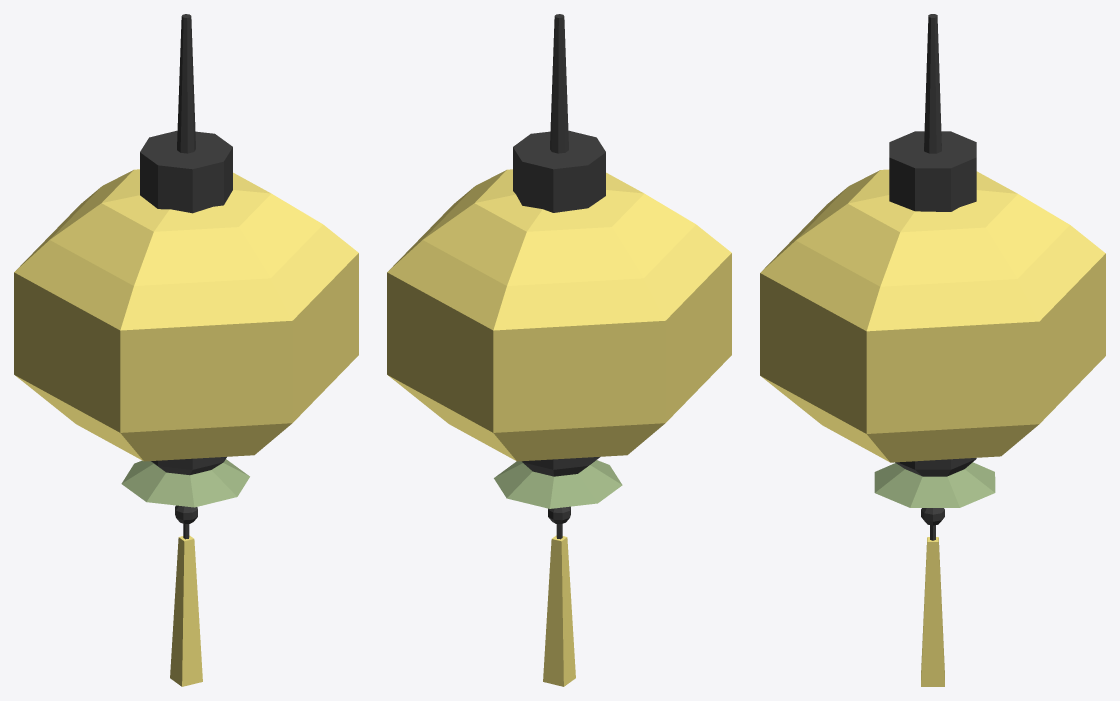
File: PaperLantern_SM 1.fbx
3 views of the same model, side by side, from view 1: azimuth 30°, elevation 25°; view 2: azimuth 150°, elevation 25°; view 3: azimuth 270°, elevation 25° (orthographic).
Parts seen in each view (by area): view 1: PaperLantern_SM; view 2: PaperLantern_SM; view 3: PaperLantern_SM.
Part boxes in pixels (x1=…): PaperLantern_SM: x1=14, y1=14, x2=358, y2=686; PaperLantern_SM: x1=387, y1=14, x2=731, y2=686; PaperLantern_SM: x1=760, y1=14, x2=1105, y2=686.
Bounding box in the file's own units: 47.51 × 108 × 50.92.
